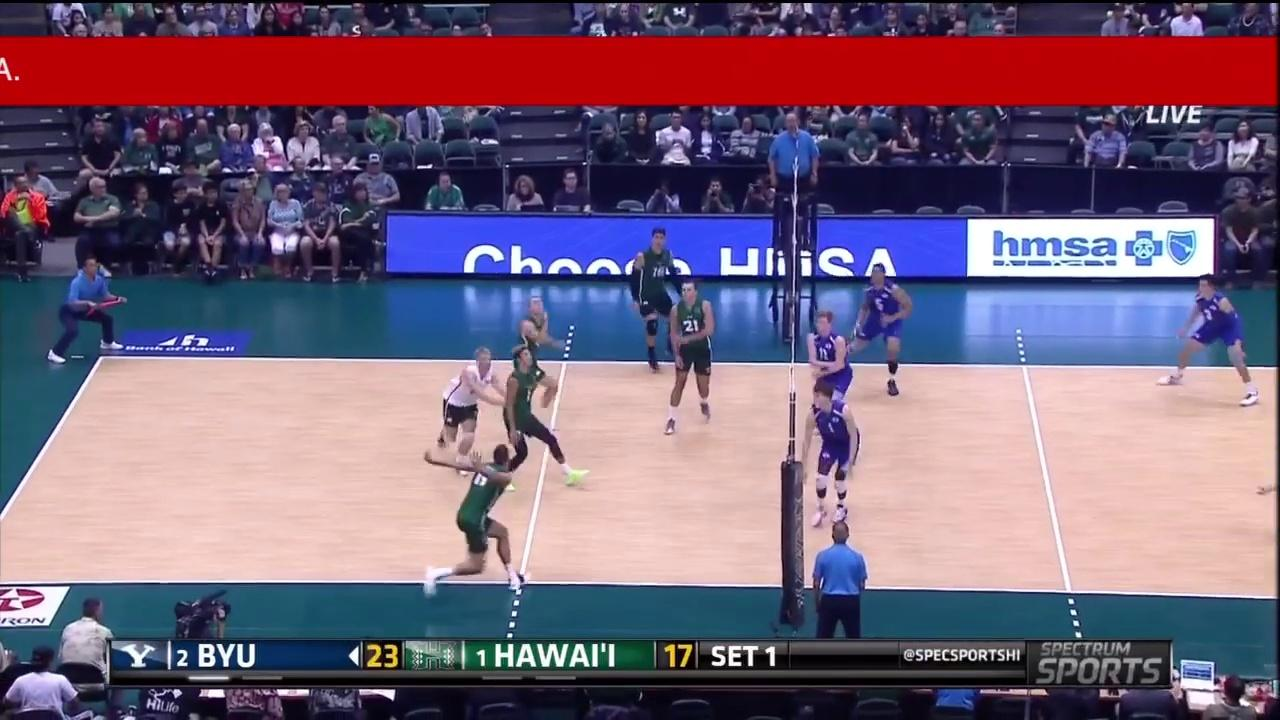player: (416, 446, 534, 591), (1157, 273, 1266, 406), (499, 341, 581, 489), (796, 381, 865, 532), (626, 214, 691, 374), (848, 251, 917, 401), (801, 306, 858, 457), (431, 335, 496, 467), (505, 294, 569, 424), (668, 282, 717, 430)
refree: (761, 108, 825, 249), (47, 253, 126, 365), (812, 525, 870, 640)
